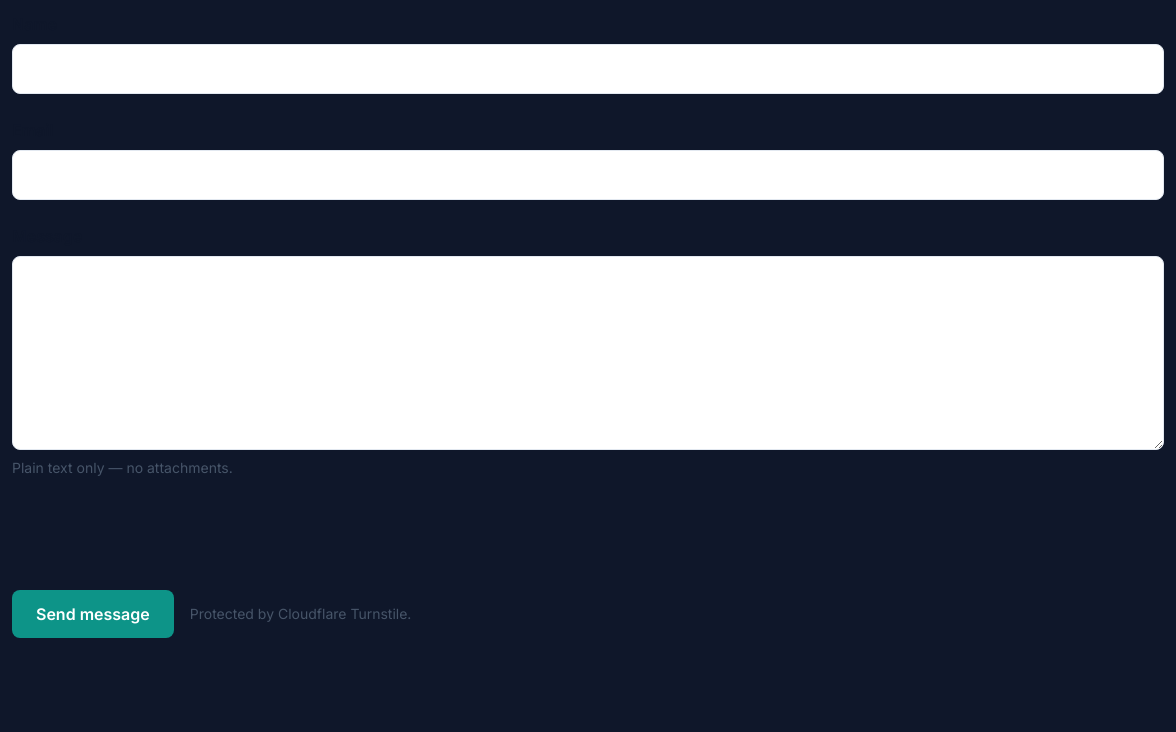
ContactForm › shows field errors and does not send an invalid form
Type "not-an-email" into the field labelled "Email".
click(588, 175); type("not-an-email")  # box [12, 150, 1164, 200]
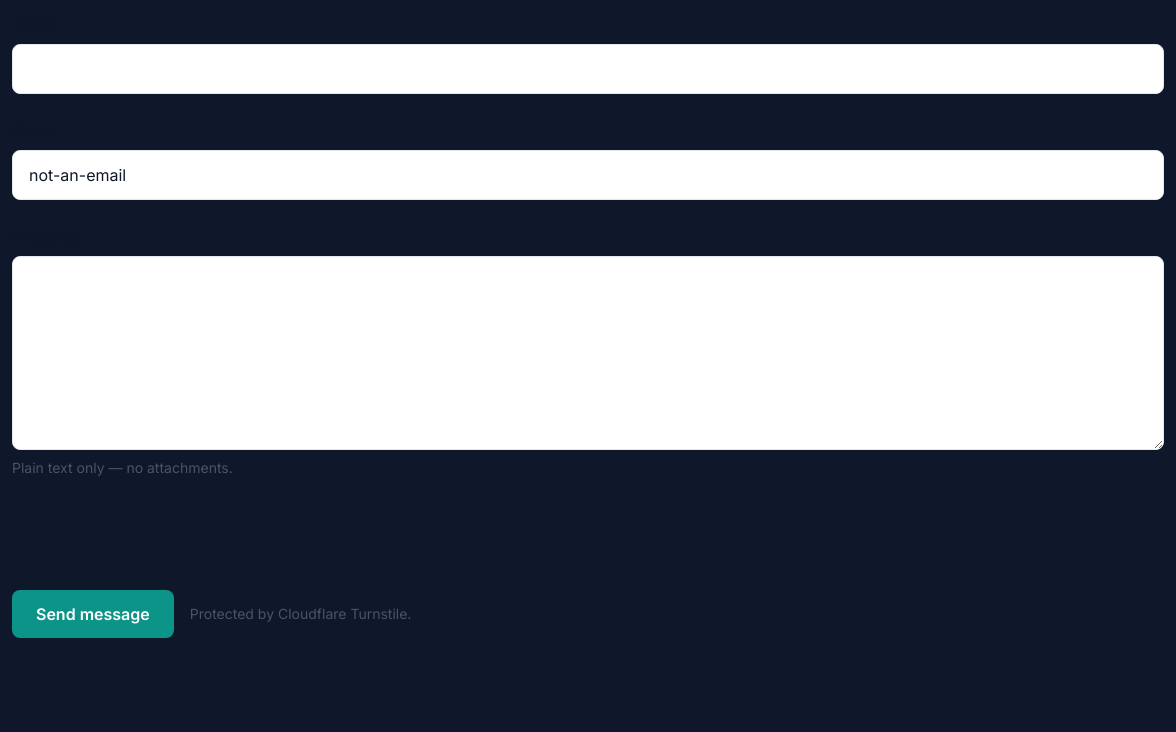
Type "too short" into the text box labelled "Message".
click(588, 353); type("too short")  # box [12, 256, 1164, 450]
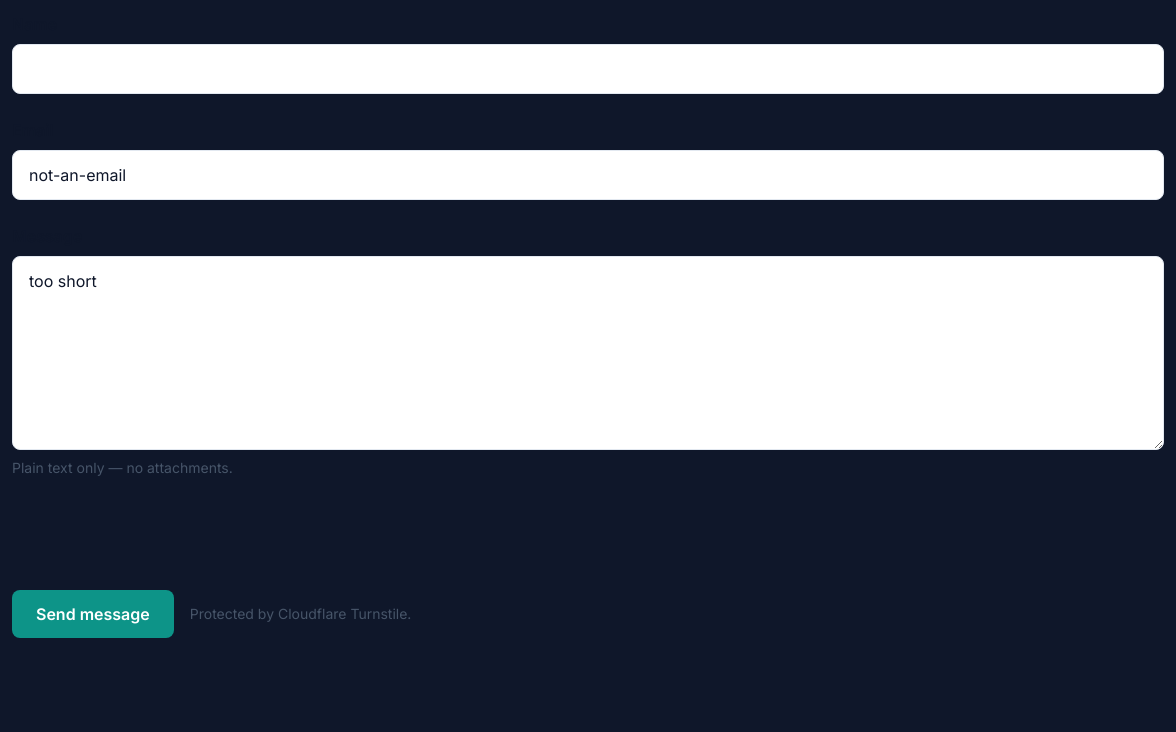
Click the button "Send message".
click(93, 614)  # box [12, 590, 174, 638]
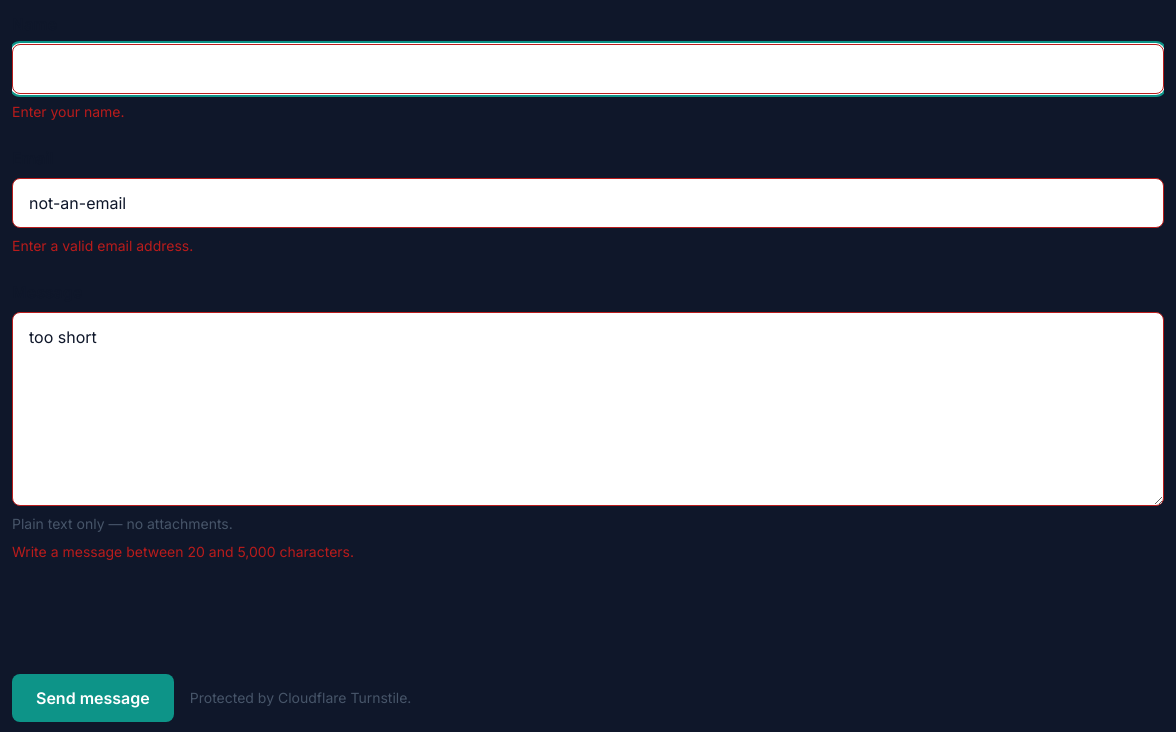
Result: the text "Enter a valid email address." is shown at [12, 237, 193, 254]
